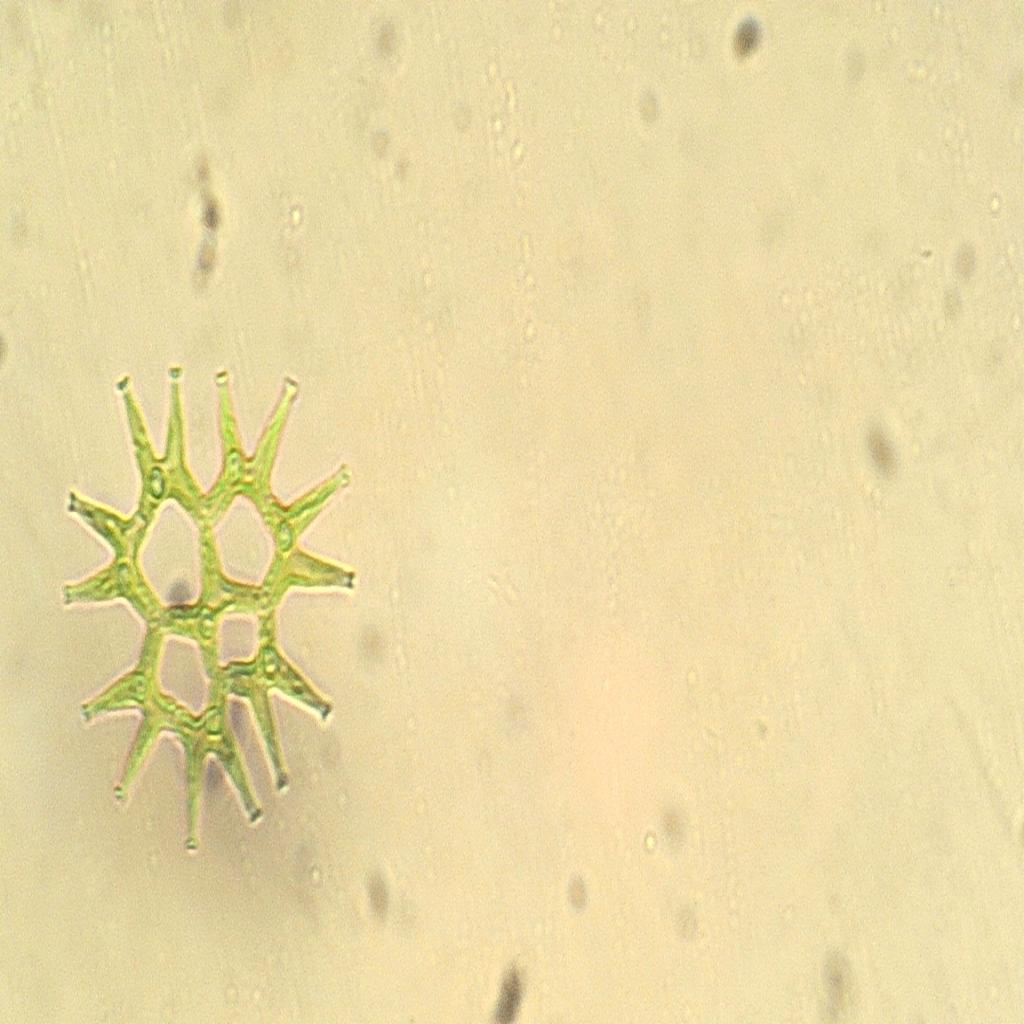Pediastrum_75T: (54, 349, 364, 872)
